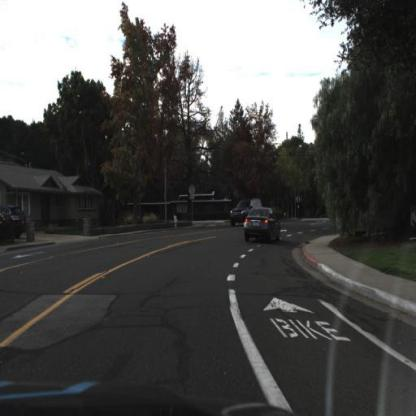car: (243, 205, 282, 246), (1, 203, 29, 245), (230, 201, 264, 232)
